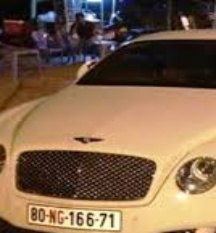plate: (21, 199, 124, 231)
